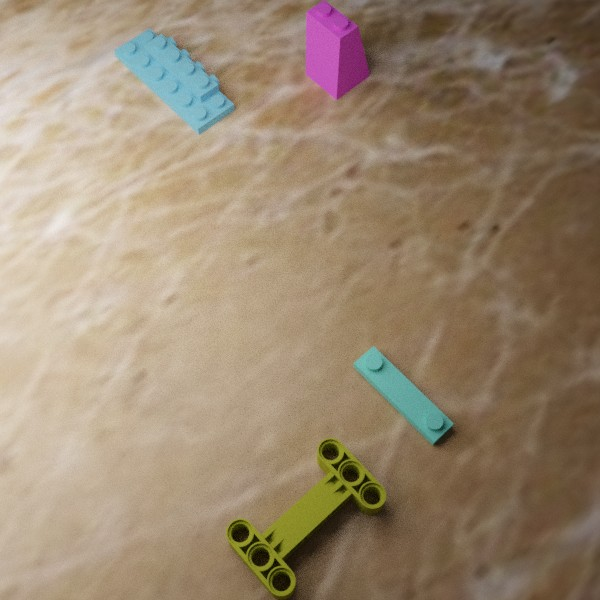lego: (225, 437, 386, 600), (113, 28, 234, 134), (353, 346, 453, 445), (305, 0, 369, 100)
